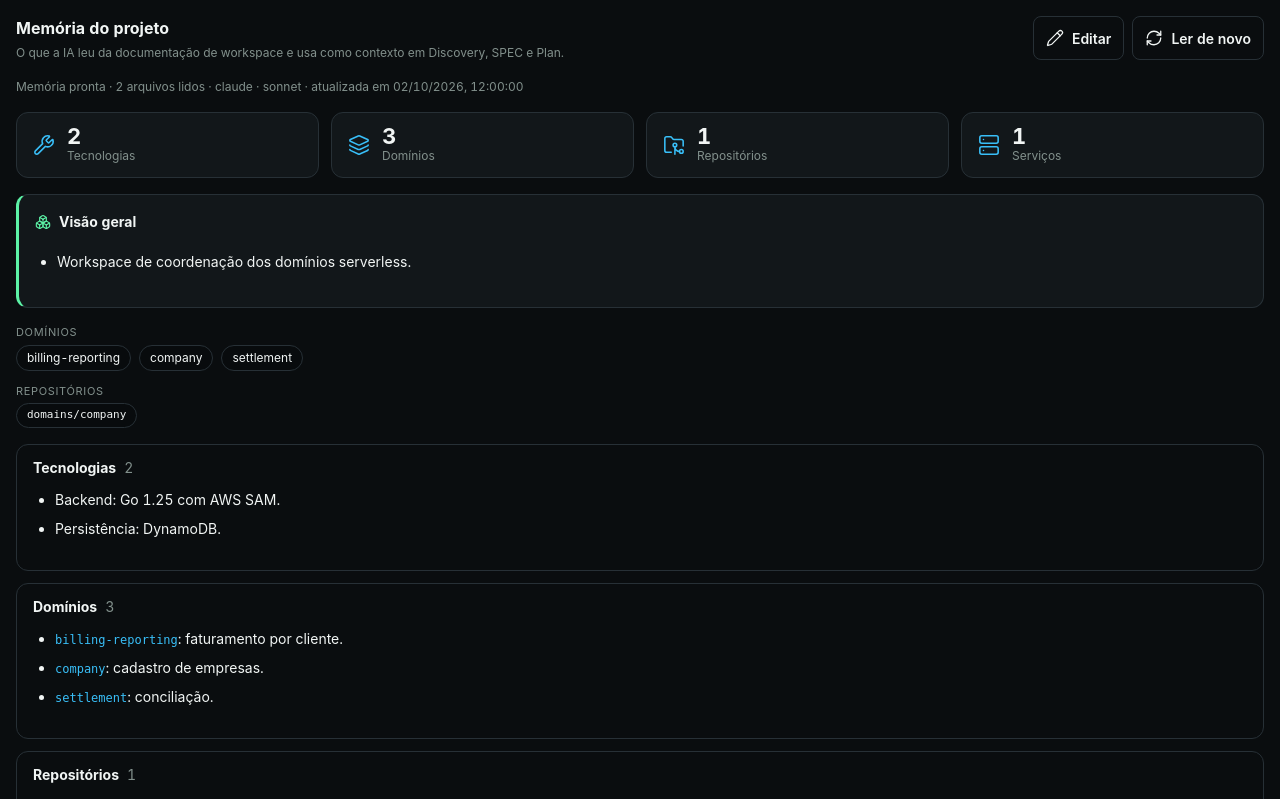
Test: project memory page › summarizes what the AI read: counts, overview, domain and repository chips, every section and the files
Expected: the 1st text "3" is shown, [382,123,396,149]
Expected: the element "Visão geral" shows "Workspace de coordenação dos domínios serverless.", [57,253,411,270]
Click the button "Editar" at {"x": 1079, "y": 38}, box [1033,16,1124,60]
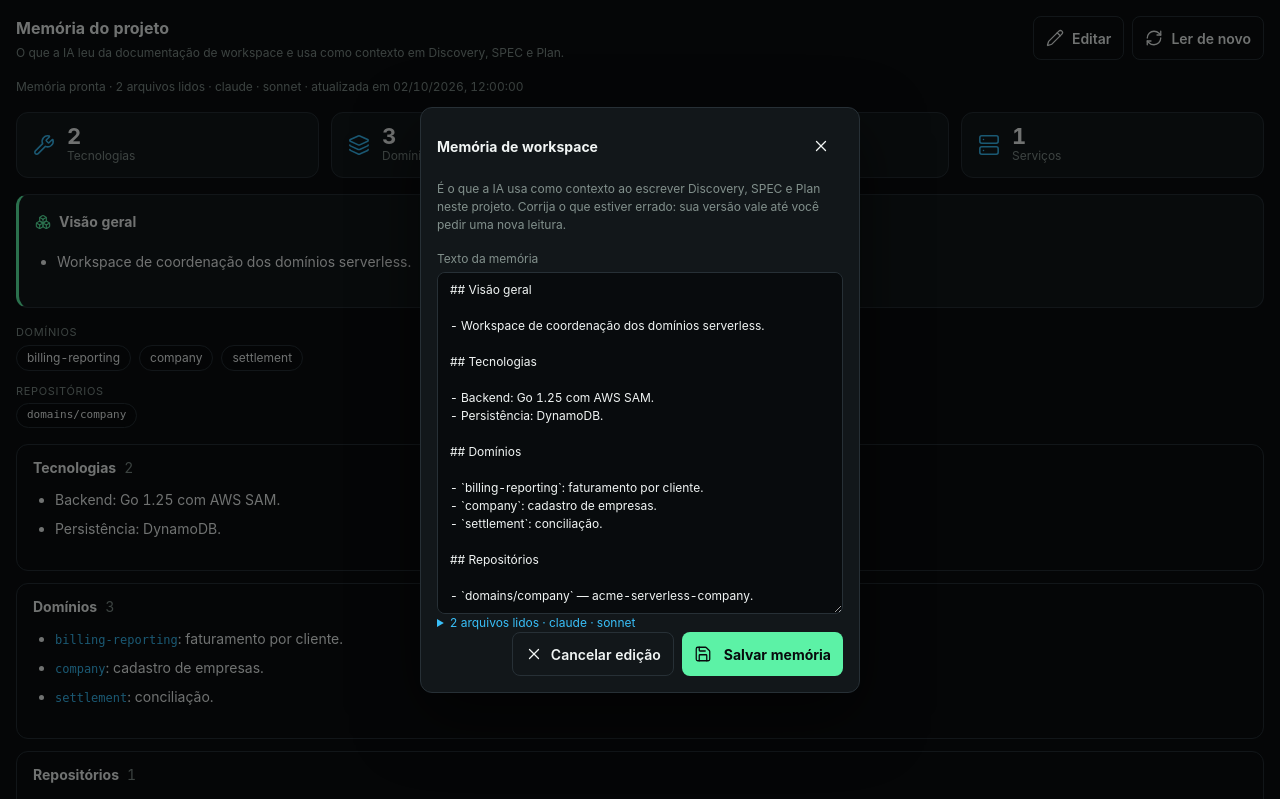
Now the text box labelled "Texto da memória" holds "## Visão geral - Workspace de coordenação dos domínios serverless. ## Tecnologias - Backend: Go 1.25 com AWS SAM. - Persistência: DynamoDB. ## Domínios - `billi", box [437,272,843,614]
